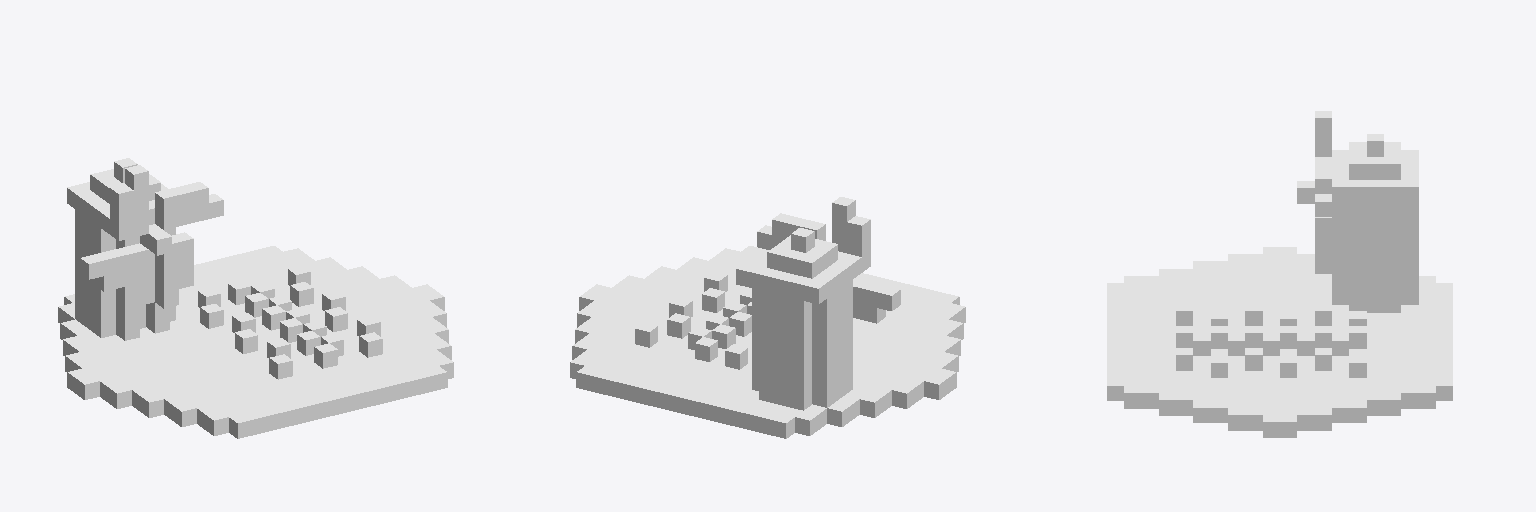
File: overworld-33-grassland_farm.obj
3 views of the same model, side by side, from view 1: azimuth 30°, elevation 25°; view 2: azimuth 150°, elevation 25°; view 3: azimuth 270°, elevation 25° (orthographic).
Visible parts, largest first — view 1: grassland_farm; view 2: grassland_farm; view 3: grassland_farm.
Boxes of the visible parts, x1=… form: grassland_farm: x1=58, y1=158, x2=453, y2=438; grassland_farm: x1=570, y1=197, x2=965, y2=438; grassland_farm: x1=1107, y1=111, x2=1452, y2=437.
Bounding box in the file's own units: 2.4 × 1.2 × 2.